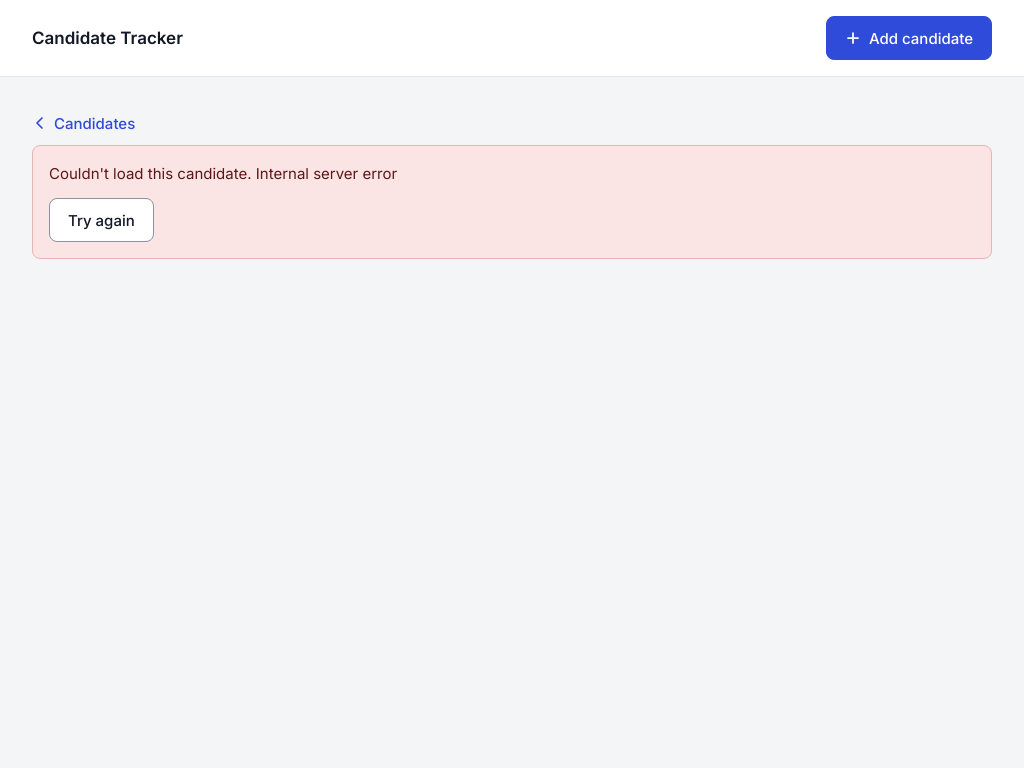
candidate detail: loading › shows other failures with a way to try again
Check: the message shows "Internal server error", box [256,164,397,183]
Click the button "Try again": (101, 220) [49,198,154,242]
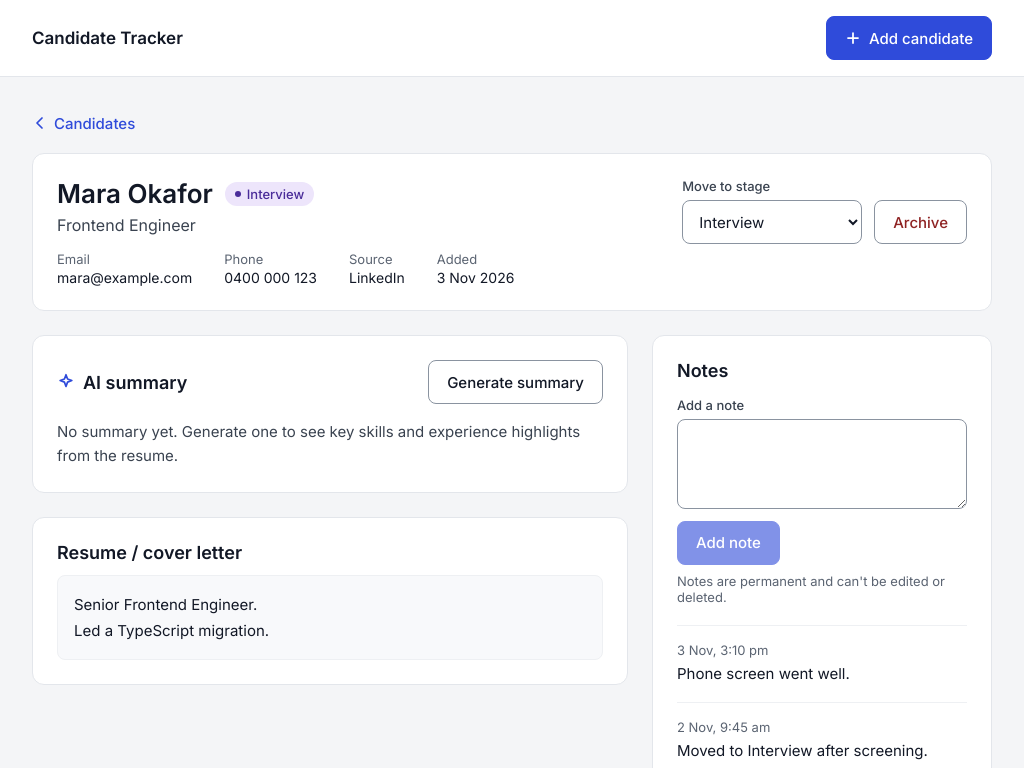
Check: the heading "Mara Okafor" is shown, box [57,178,213,209]
